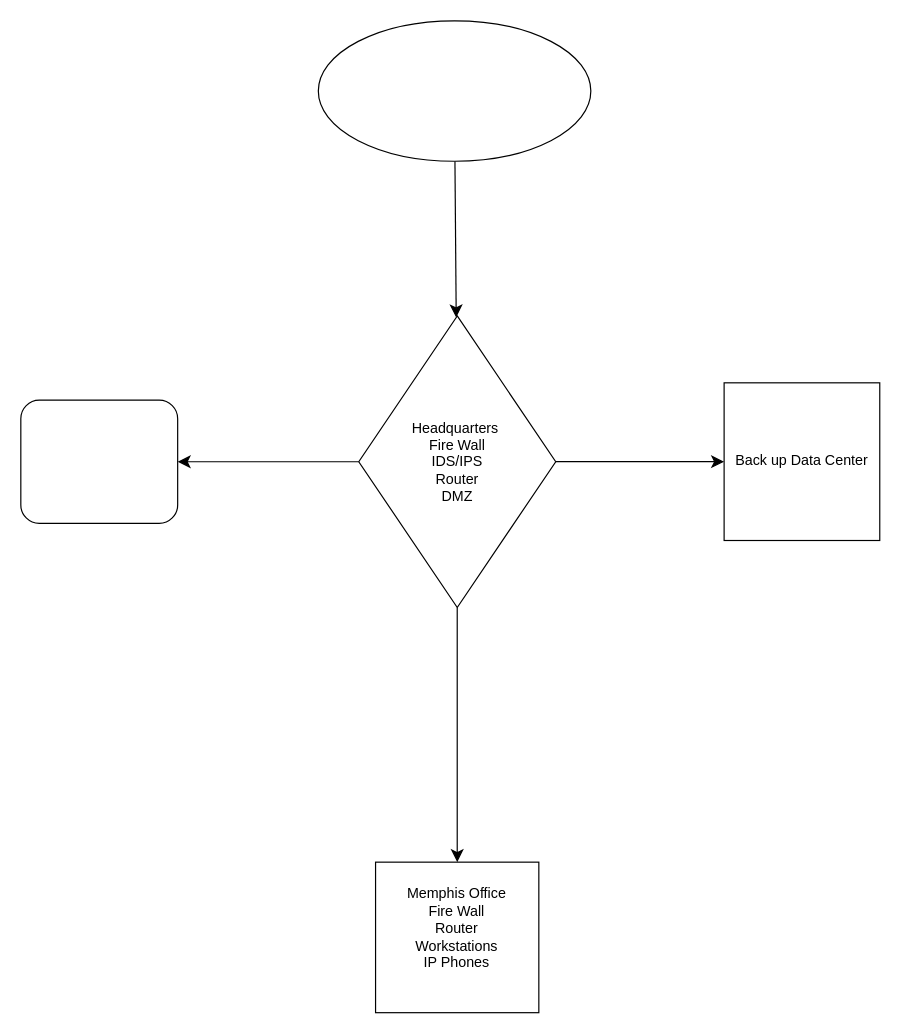
Some shapes in this 901 by 1034 pixel diagram are drawn without their labels. Here are the shapes that lost their labels. From the top down, the centre of each, then its label:
At point (454, 90): "Cloud Services".
At point (99, 461): "Dallas Office Fire Wall Router Work Stations Printers".
